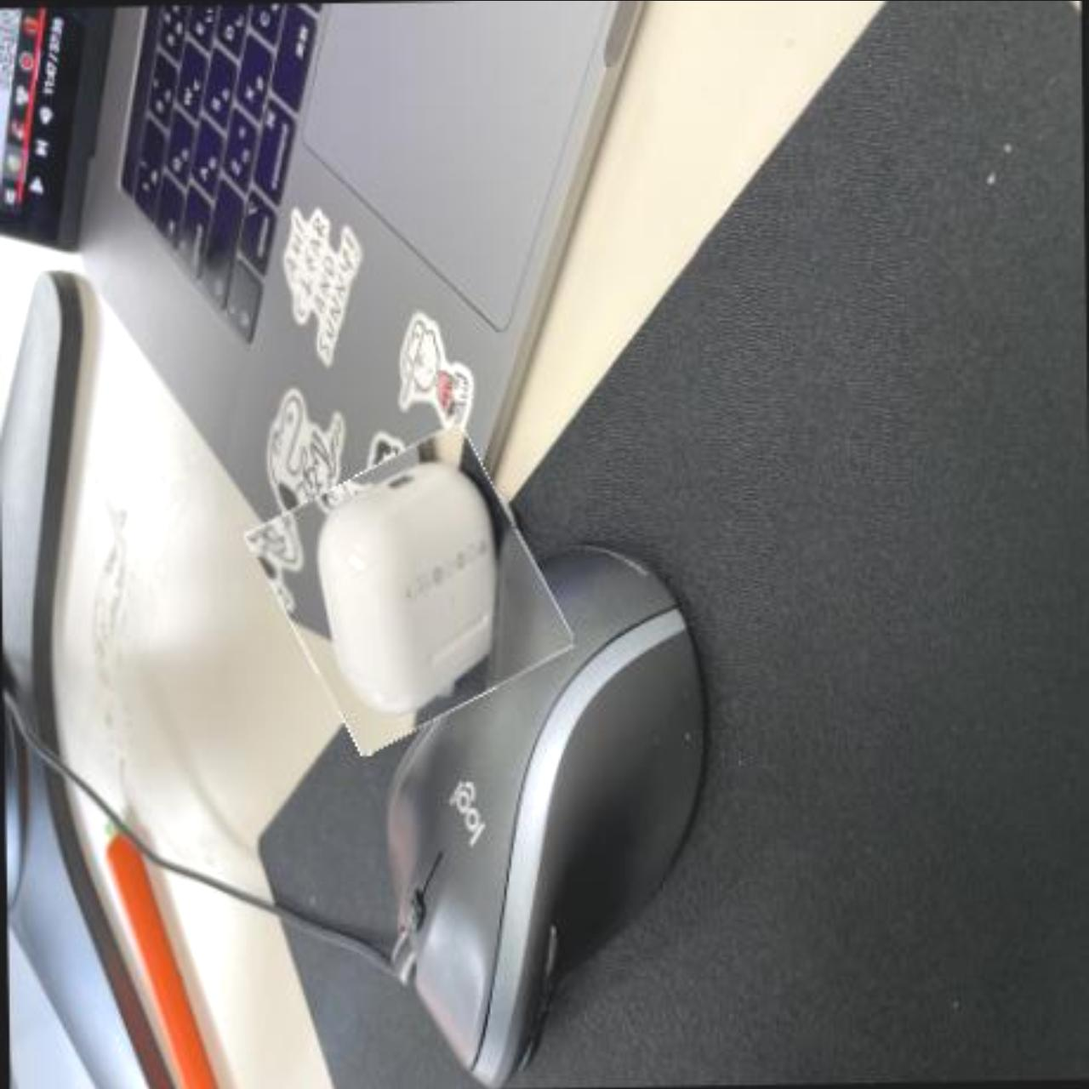AirPods: (267, 442, 555, 737)
